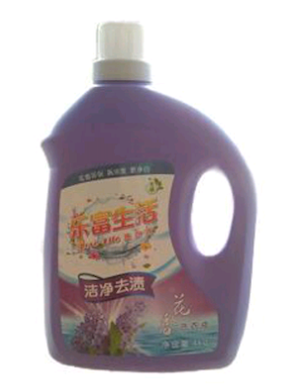ImgView: (1, 1, 287, 385)
